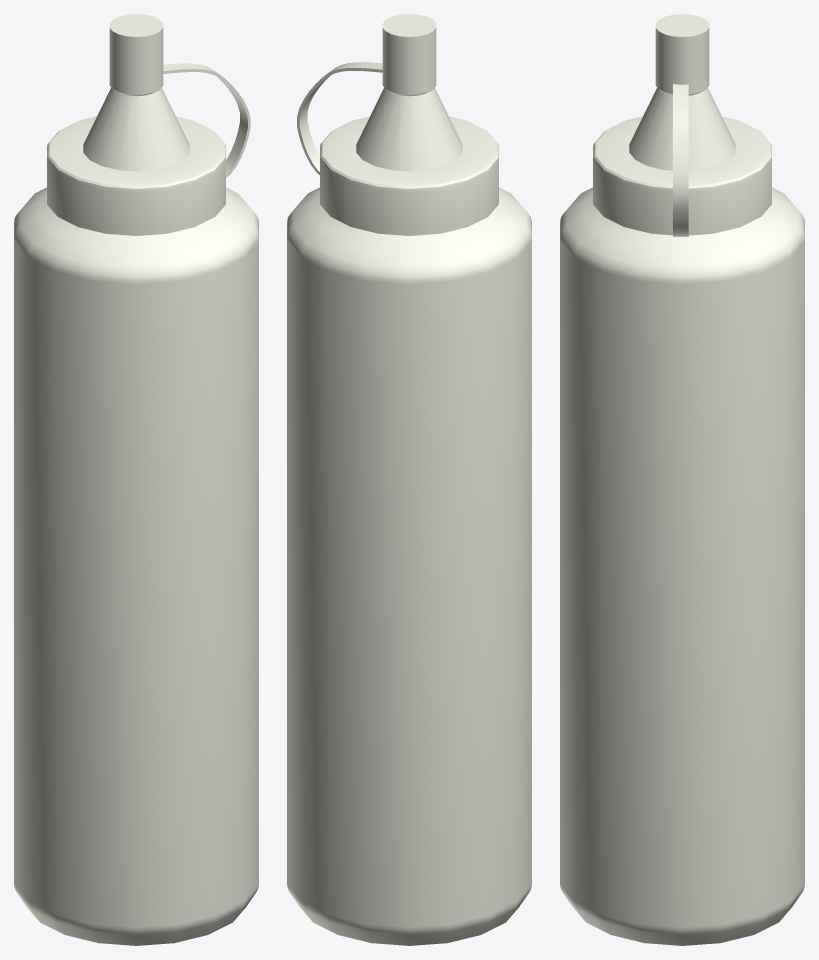
Rendered from Mayonnaise.FBX.
The picture shows the model from 3 angles, left to right: view 1: azimuth 30°, elevation 25°; view 2: azimuth 150°, elevation 25°; view 3: azimuth 270°, elevation 25°; orthographic projection.
Parts seen in each view (by area): view 1: mayonnaise; view 2: mayonnaise; view 3: mayonnaise.
Boxes of the visible parts, x1,y1,x2,y2 form: mayonnaise: (14,14,258,945); mayonnaise: (287,14,531,945); mayonnaise: (560,14,804,945).
Bounding box in the file's own units: 5.46 × 20.97 × 5.33.
1 material, 1 textured.
